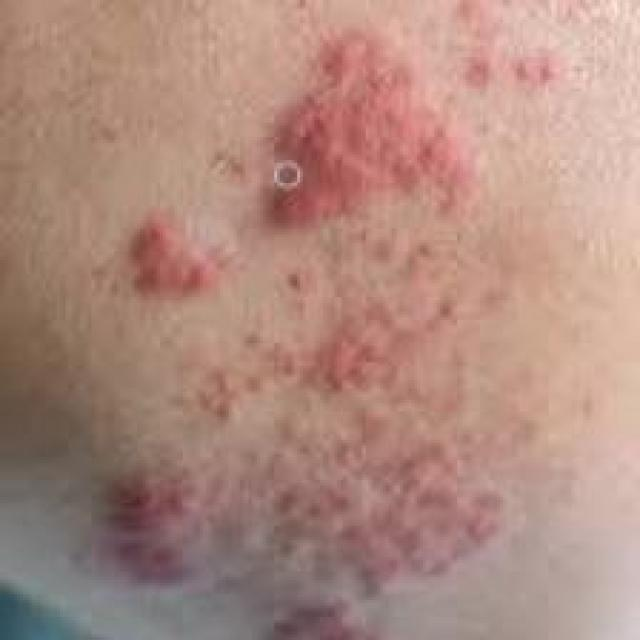others: (66, 0, 618, 619)
